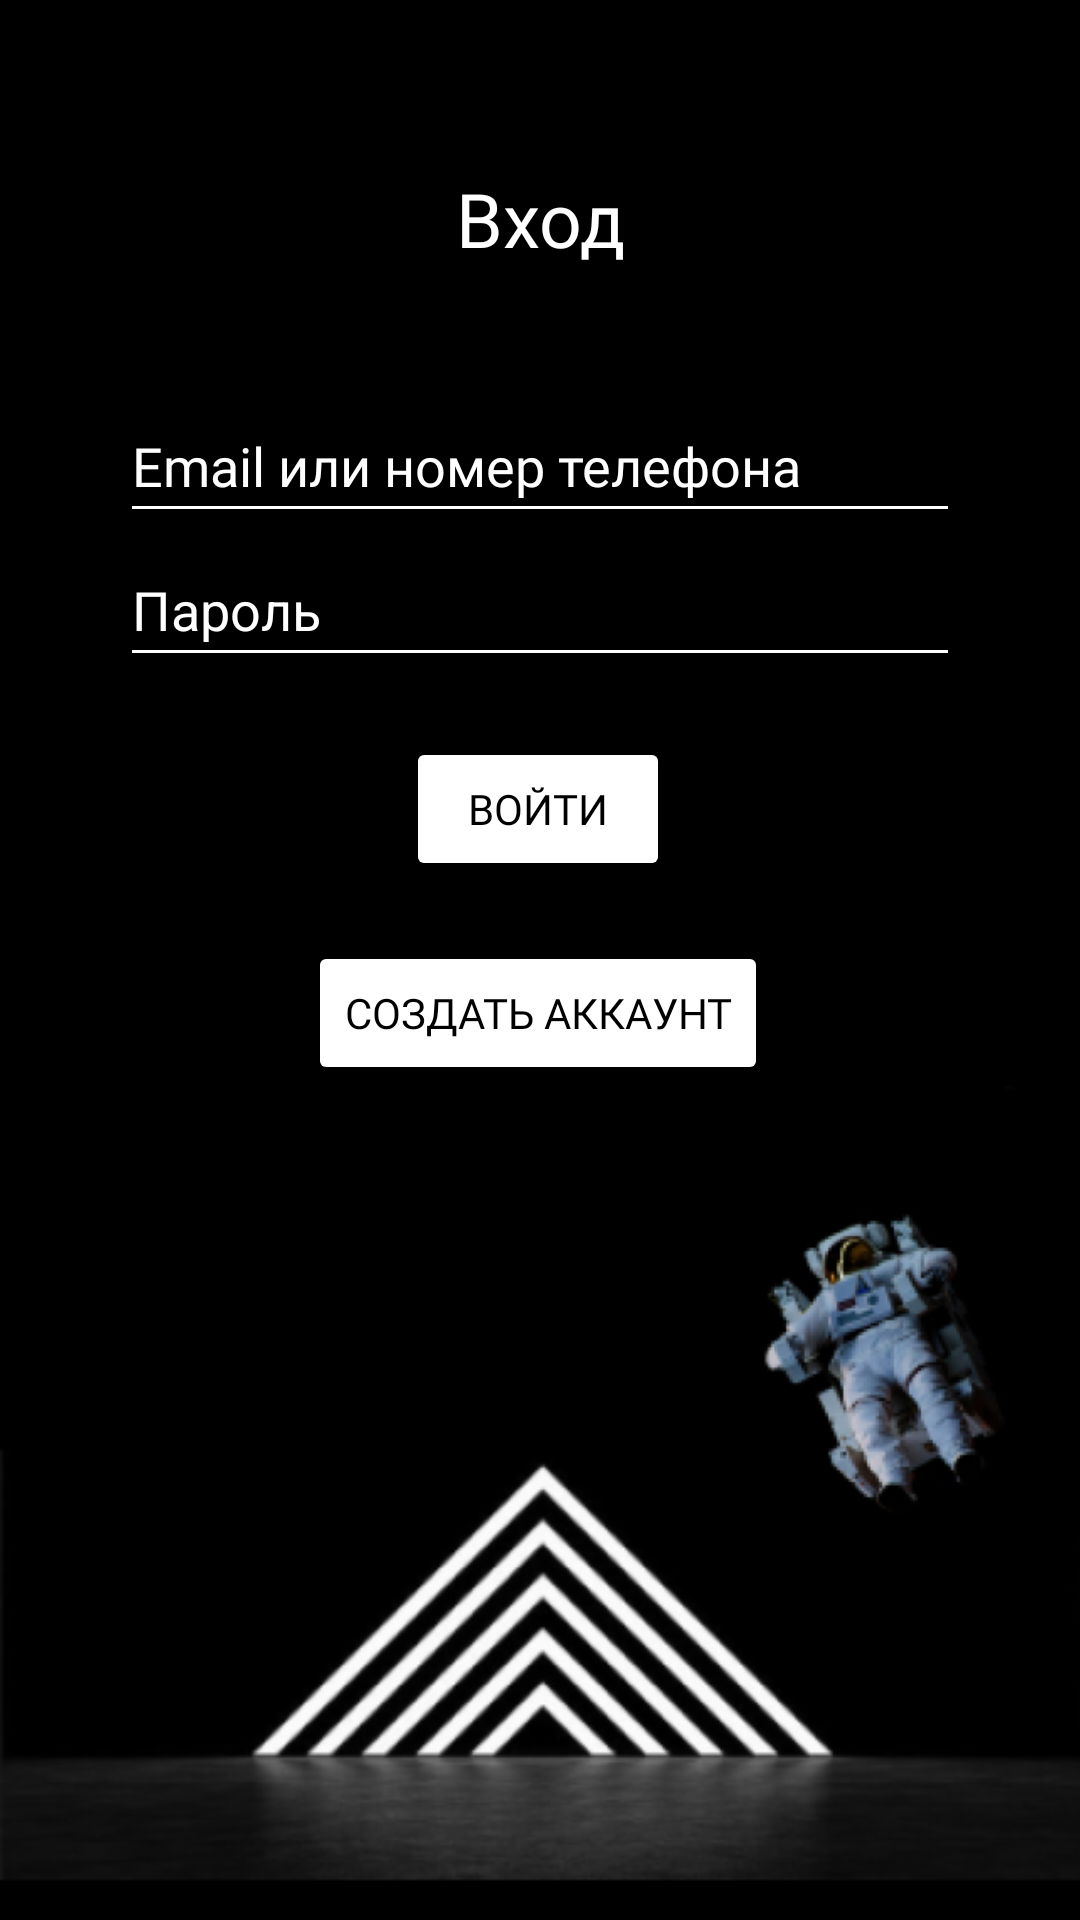

Screen size 1080w x 1920h. Icon name, then its box in pixels as (x1, y1, x2, y2):
cosmo: (764, 1215, 993, 1502)
